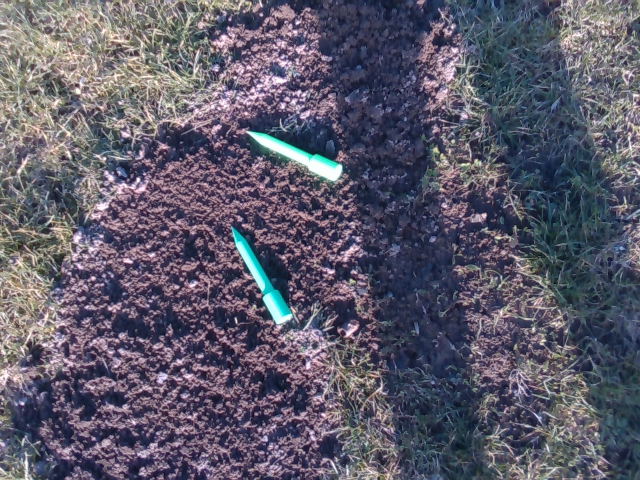Probe: (230, 224, 297, 334), (242, 126, 354, 187)
